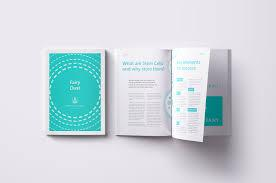paper: (40, 47, 231, 143)
